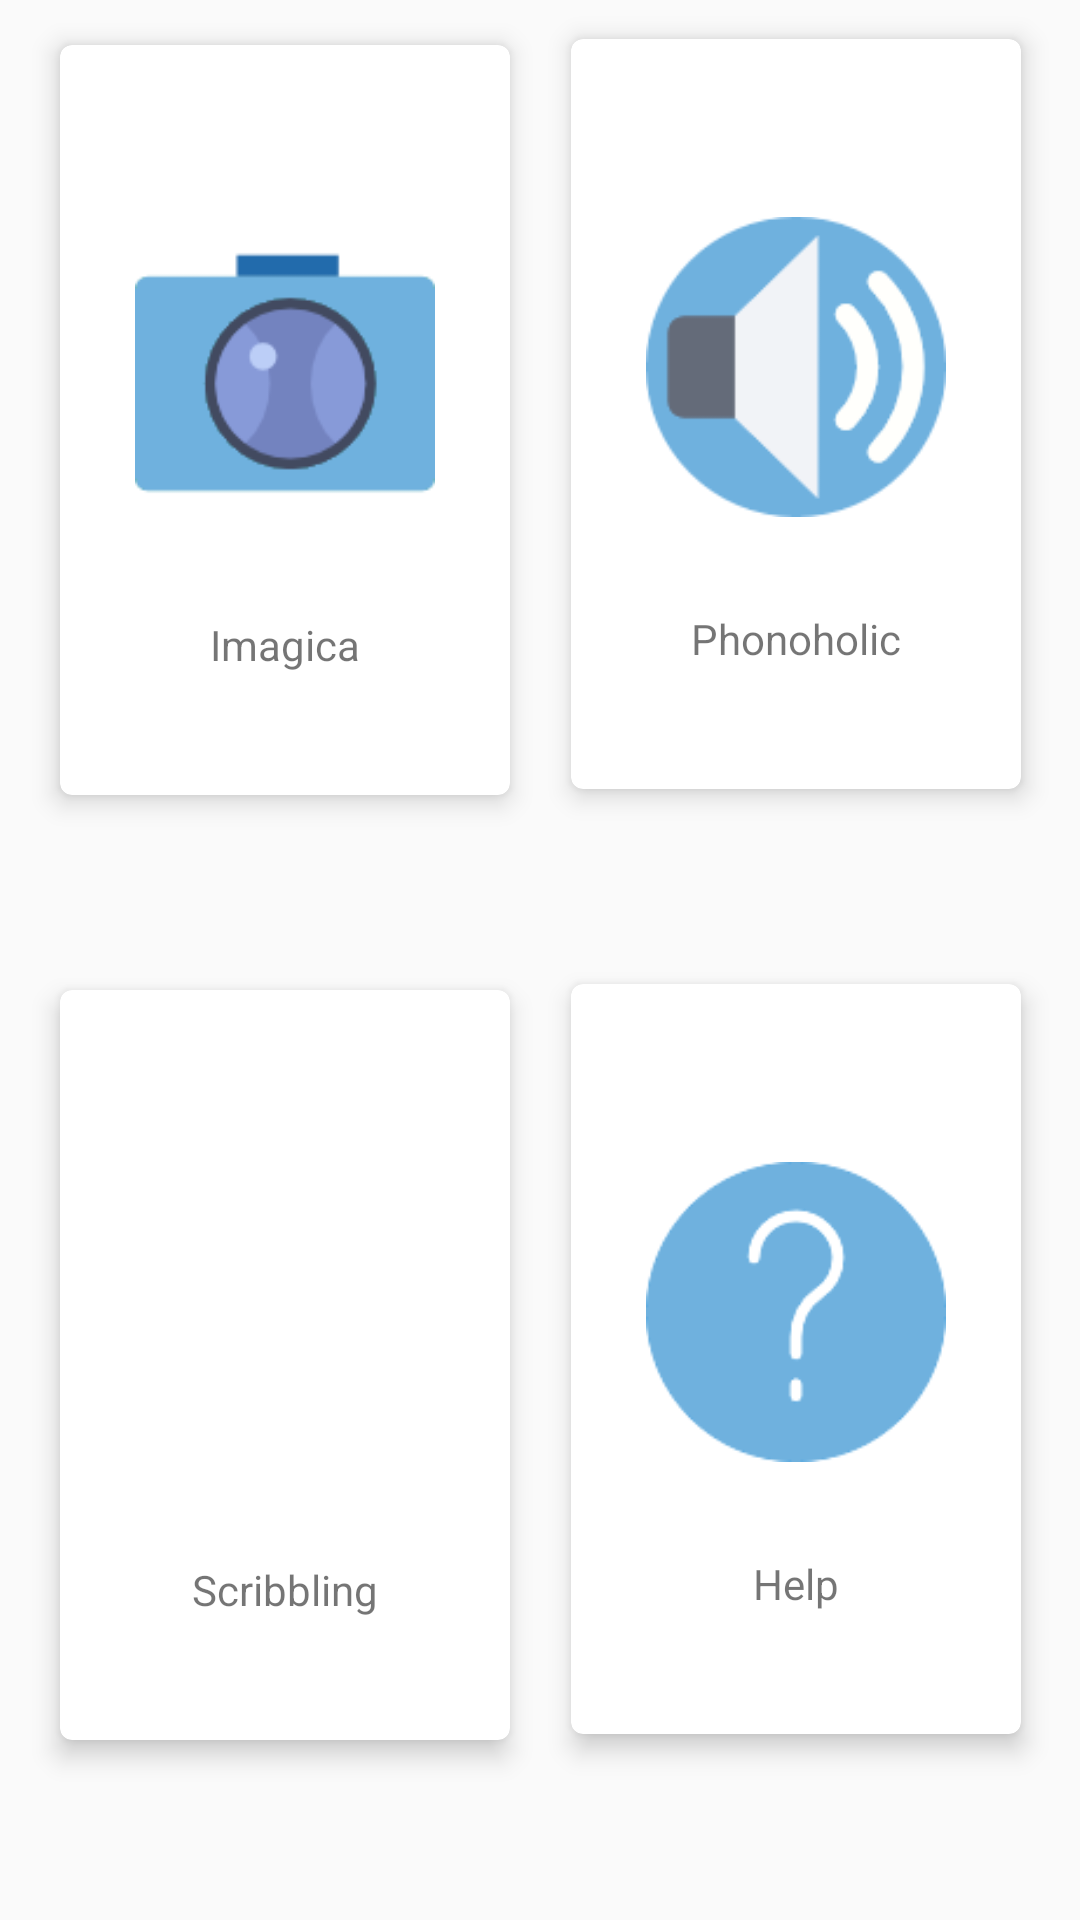

Point at icon controls on the screen. Image size 1080 x 1920, points as [x,y].
photo camera: [285,373]
sound: [796,367]
